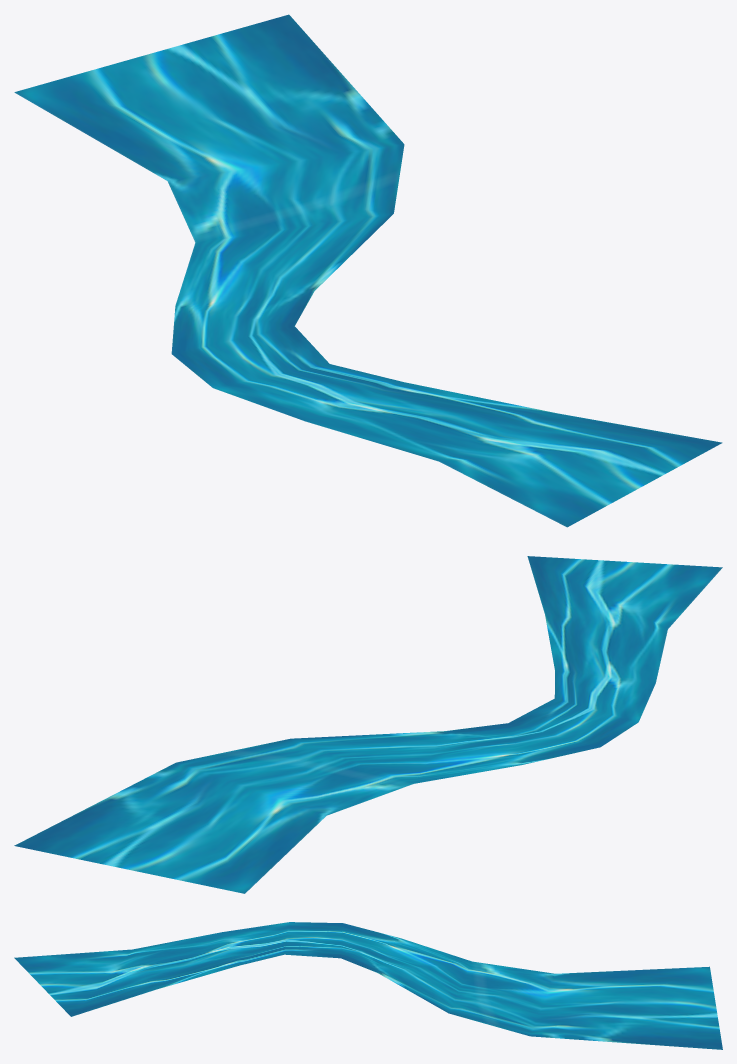
The model's file is map_plain_road10.FBX.
The picture shows the model from 3 angles, top to bottom: view 1: azimuth 30°, elevation 25°; view 2: azimuth 150°, elevation 25°; view 3: azimuth 270°, elevation 25°; orthographic projection. The views are drawn at different scales.
Parts seen in each view (by area): view 1: 10; view 2: 10; view 3: 10.
Part boxes in pixels (bbox=[...]): 10: bbox=[14, 14, 722, 527]; 10: bbox=[14, 556, 722, 893]; 10: bbox=[14, 922, 722, 1049].
Size of the model in its own units: 68.07 by 4.52e-14 by 159.
